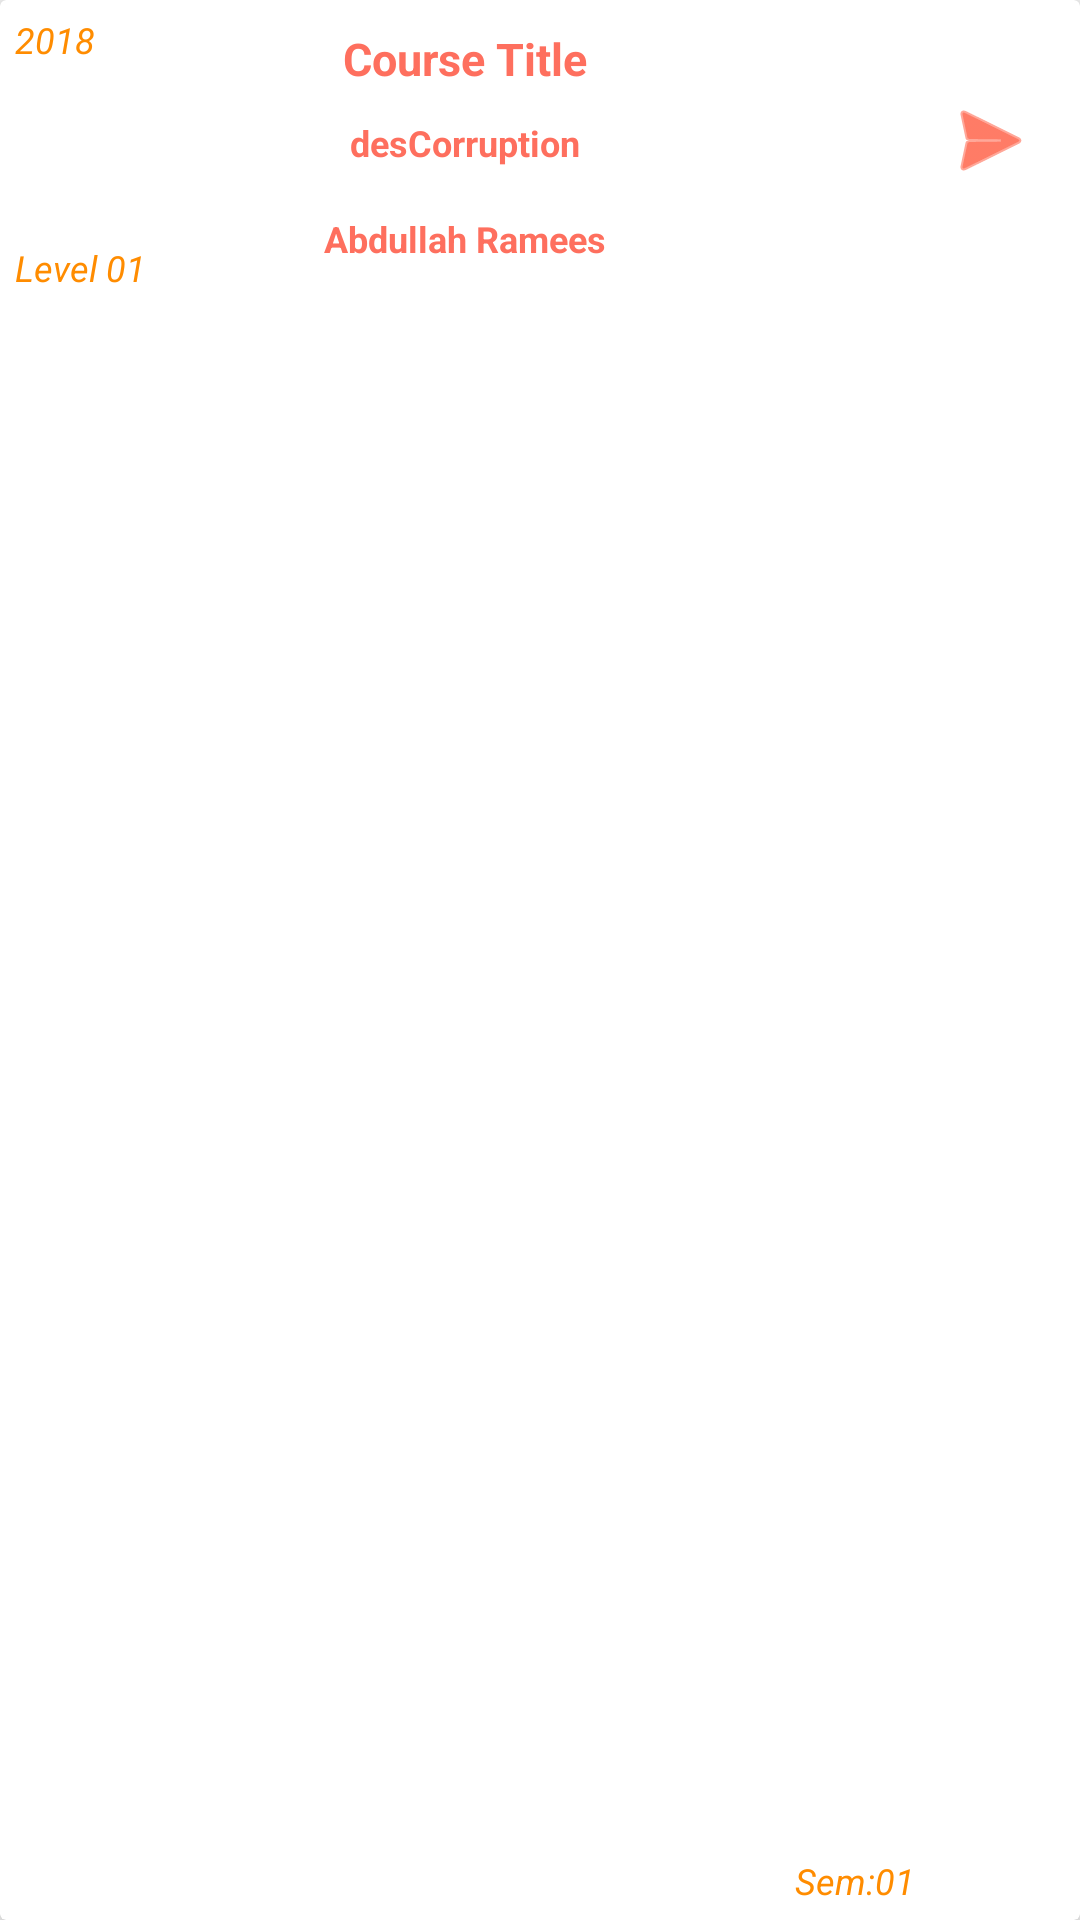

Where icons sit on this 1080px x 1920px app screen, as (x1,y1,x2,y2):
send: (960,110,1022,171)
